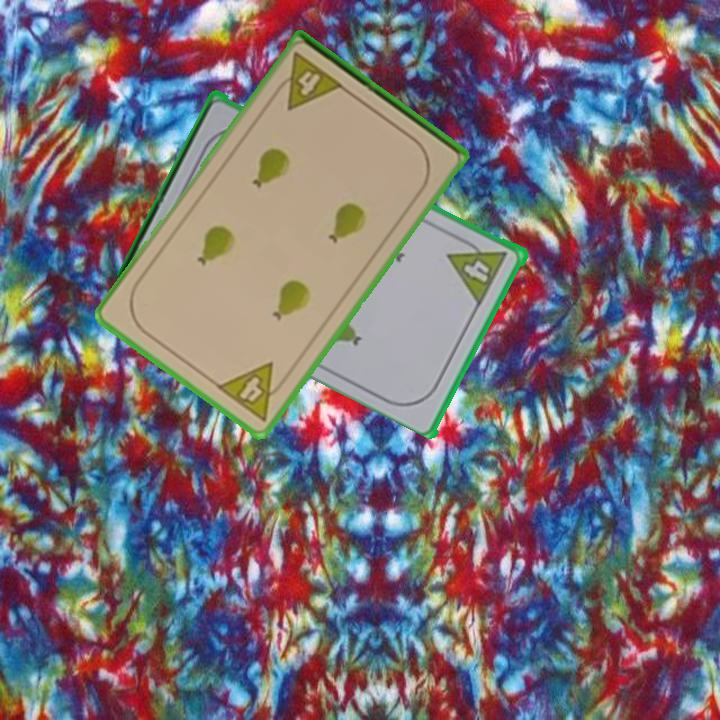4p: (213, 358, 293, 425), (269, 48, 347, 113), (445, 253, 497, 305)
